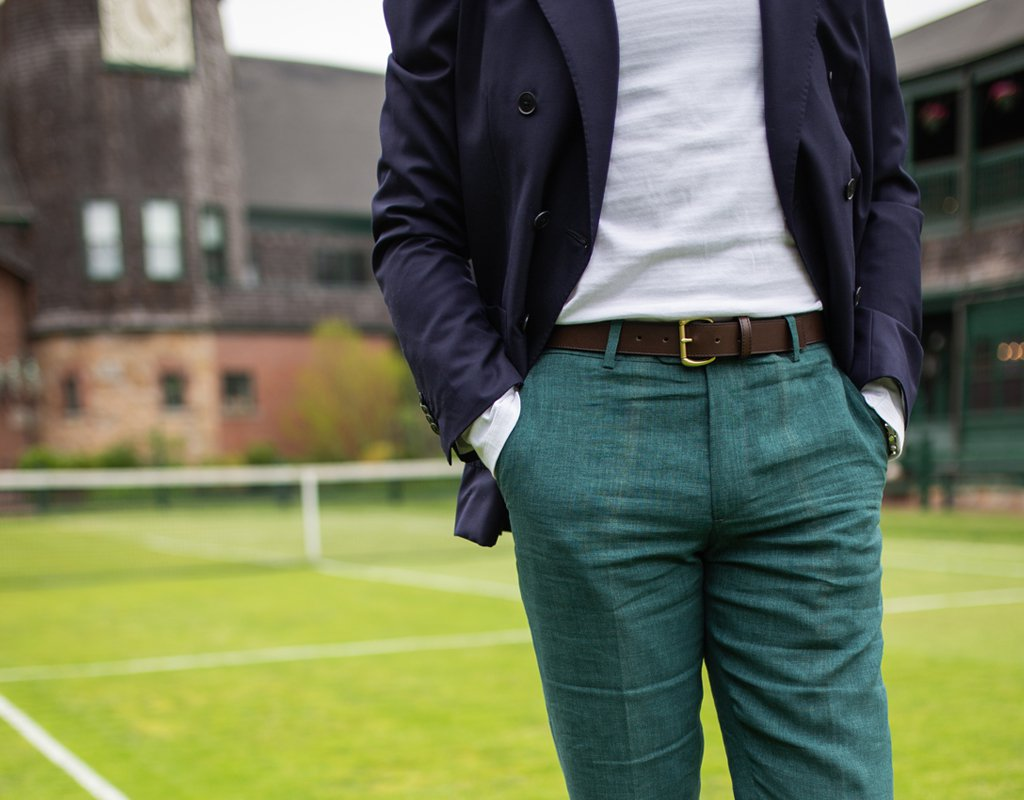F_M_suit jacket: (360, 3, 930, 526)
F_belt: (543, 308, 832, 366)
F_dress pants: (501, 375, 907, 789)
